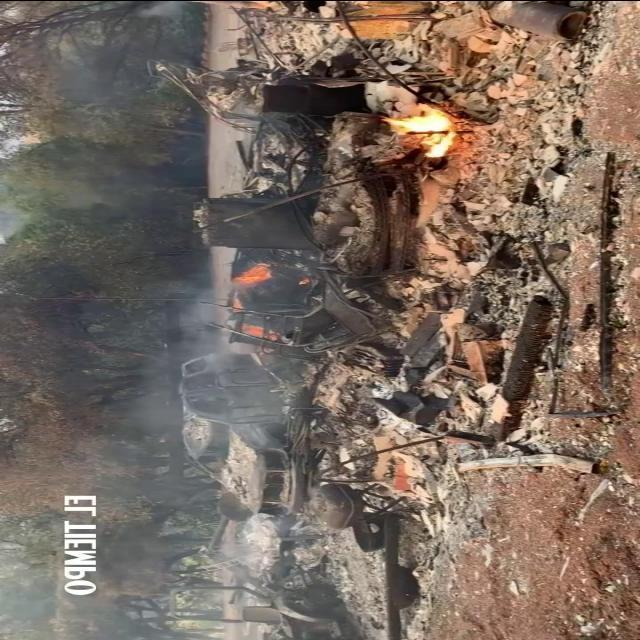Fire: (378, 99, 450, 157), (234, 263, 268, 284), (238, 324, 266, 334), (297, 274, 311, 284)
